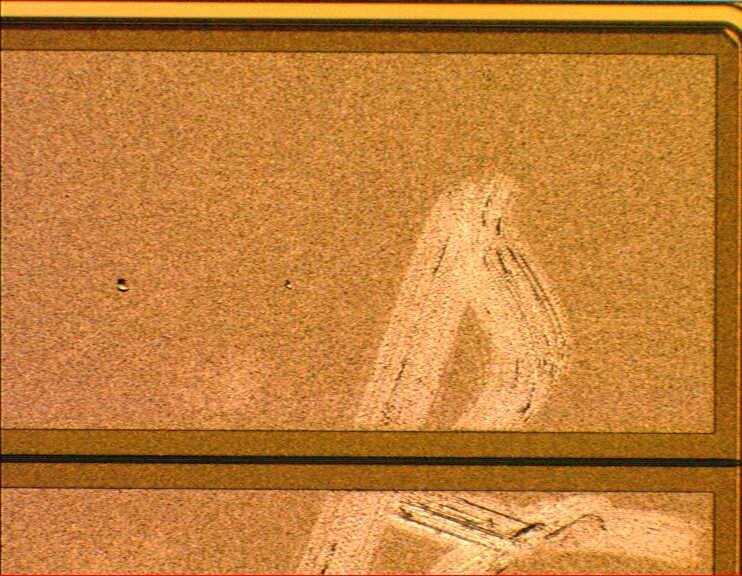SCRATCH: (286, 161, 715, 576)
